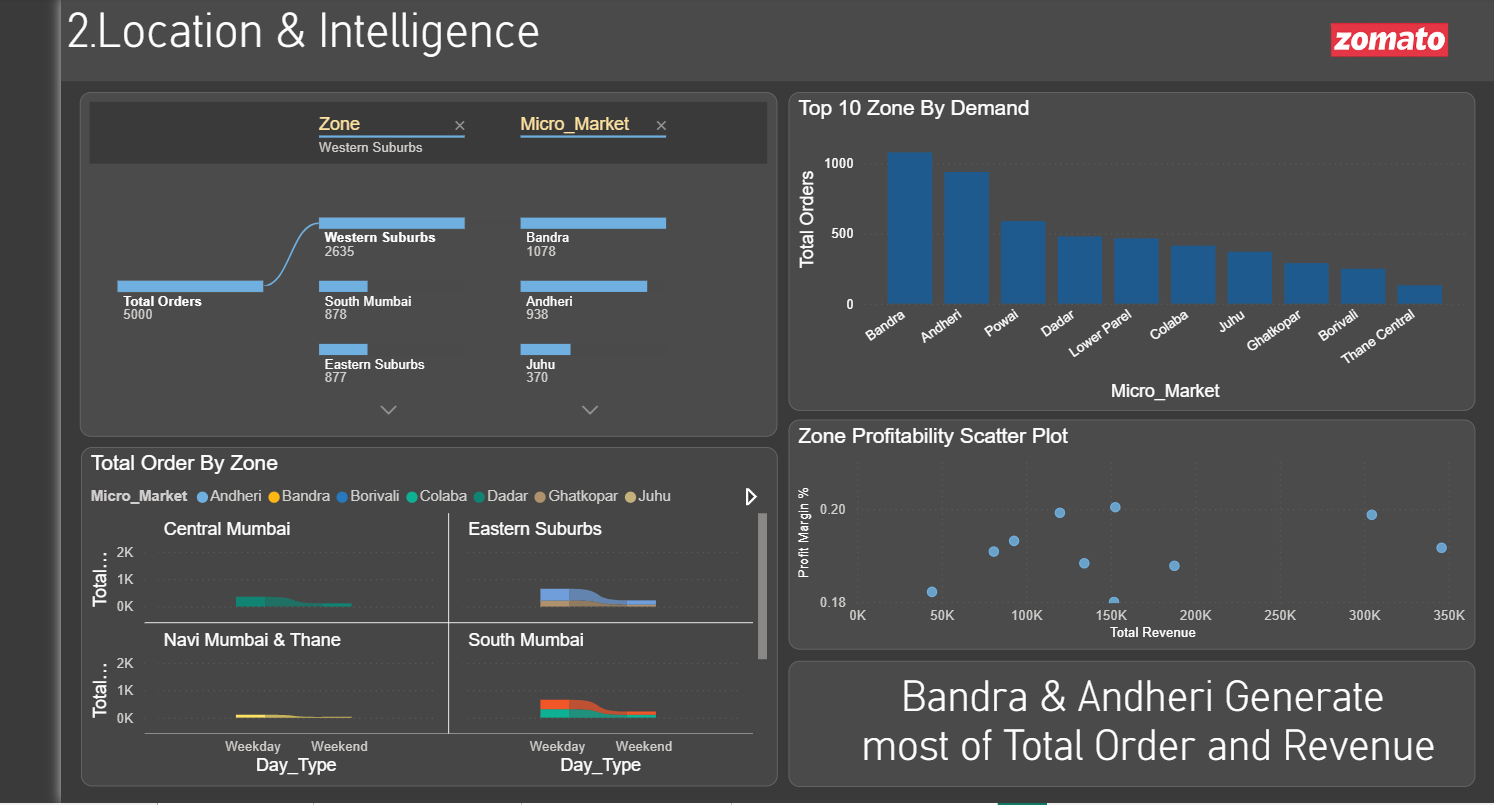

This screenshot's page, from the dashboard's own definition file:
{"tool":"powerbi","page":{"name":"Location & Intelligence","canvas":[1280,720],"ordinal":1},"visuals":[{"type":"textbox","box":[0,0,1280.2,75.6],"z":0},{"type":"decompositionTreeVisual","fields":{"Analyze":["Cleaned Data.Total Orders"],"ExplainBy":["Cleaned Data.Zone","Cleaned Data.Micro_Market"]},"box":[16.3,84.9,623.3,308.1],"z":1000},{"type":"ribbonChart","title":"Total Order By Zone","fields":{"Category":["Cleaned Data.Day_Type"],"Y":["Cleaned Data.Total Orders"],"Series":["Cleaned Data.Micro_Market"],"Rows":["Cleaned Data.Zone"]},"box":[17.4,402.3,622.1,303.5],"z":2000},{"type":"clusteredColumnChart","title":"Top 10 Zone By Demand","fields":{"Category":["Cleaned Data.Micro_Market"],"Y":["Cleaned Data.Total Orders"]},"box":[650,84.9,614,284.9],"z":3000},{"type":"scatterChart","title":"Zone Profitability Scatter Plot","fields":{"Category":["Cleaned Data.Micro_Market"],"X":["Cleaned Data.Total Revenue"],"Y":["Cleaned Data.Profit Margin %"]},"box":[650,377.9,614,205.8],"z":4000},{"type":"textbox","box":[650,593,614,112.8],"z":5000},{"type":"image","box":[1093.5,0,186.7,75.9],"z":6000}]}

Visuals, with their boxes on the page's 1280x720 design canvas (x1, y1, x2, y2). These are canvas units, not pixel positions in the 1494x805 screenshot, which may show the page scaled, cropped or inside an application window:
textbox: left=0, top=0, right=1280, bottom=76
decompositionTreeVisual - Cleaned Data.Total Orders x Cleaned Data.Zone: left=16, top=85, right=640, bottom=393
"Total Order By Zone" ribbonChart: left=17, top=402, right=640, bottom=706
"Top 10 Zone By Demand" clusteredColumnChart: left=650, top=85, right=1264, bottom=370
"Zone Profitability Scatter Plot" scatterChart: left=650, top=378, right=1264, bottom=584
textbox: left=650, top=593, right=1264, bottom=706
image: left=1094, top=0, right=1280, bottom=76
